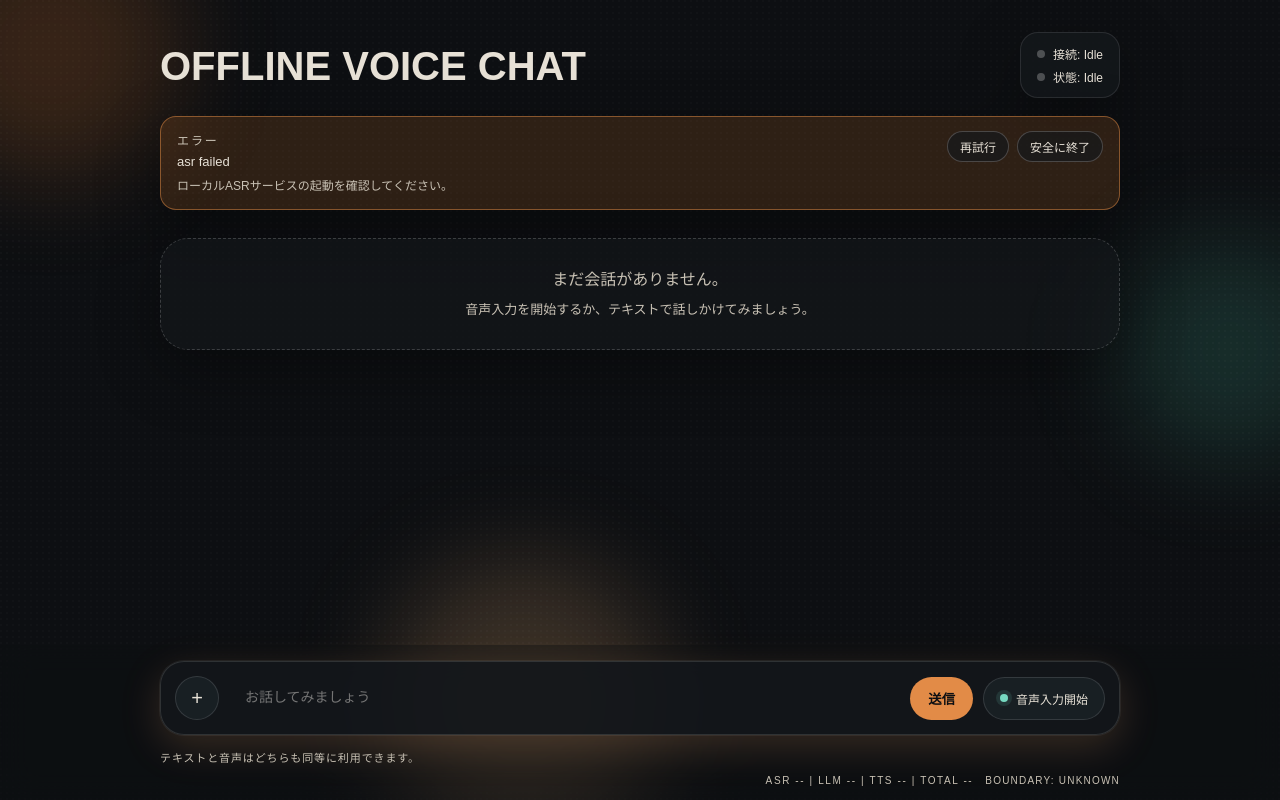
Test: App › shows error guidance and allows retry
The width and height of the screenshot is (1280, 800).
Expected: the message "エラー asr failed ローカルASRサービスの起動を確認してください。 再試行 安全に終了" is shown, [160,116,1120,210]
Click the button "再試行": (978, 146) [947,131,1009,162]
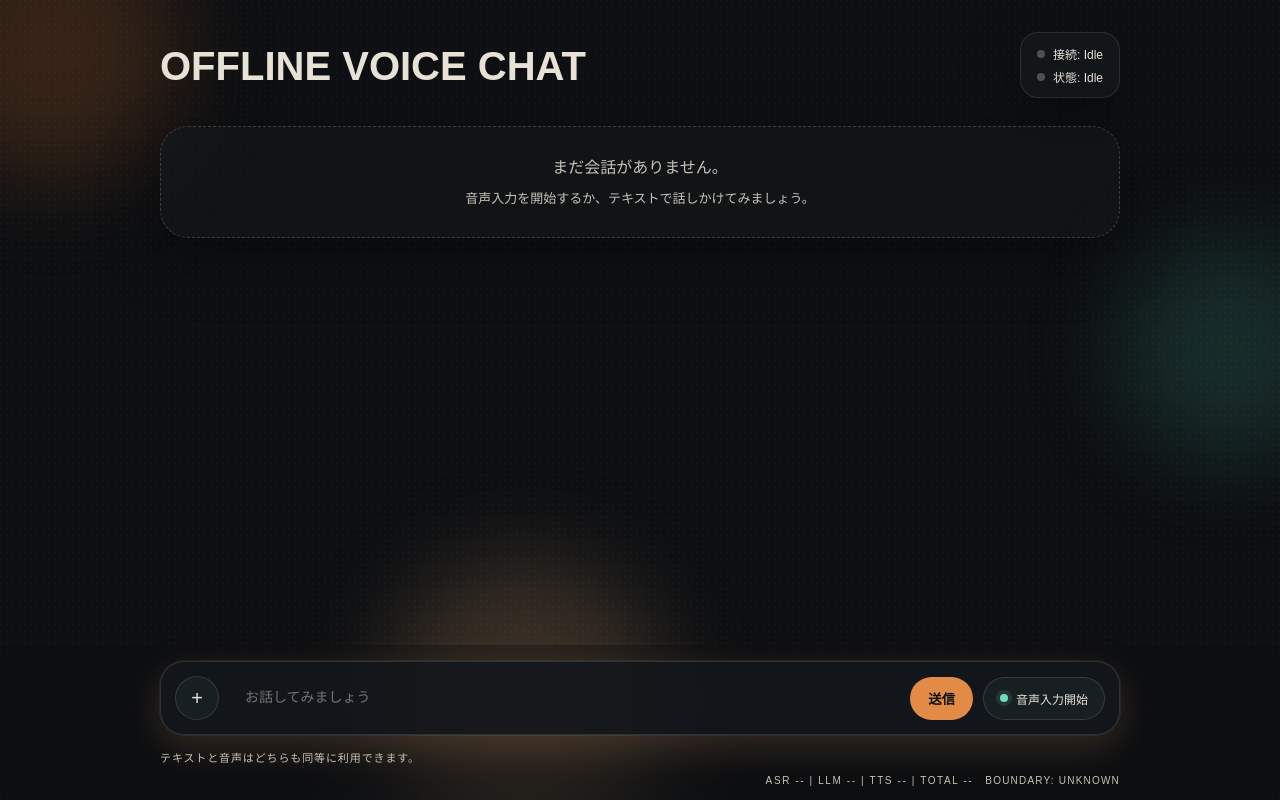
Expected: the message "エラー asr failed ローカルASRサービスの起動を確認してください。 再試行 安全に終了" is gone
